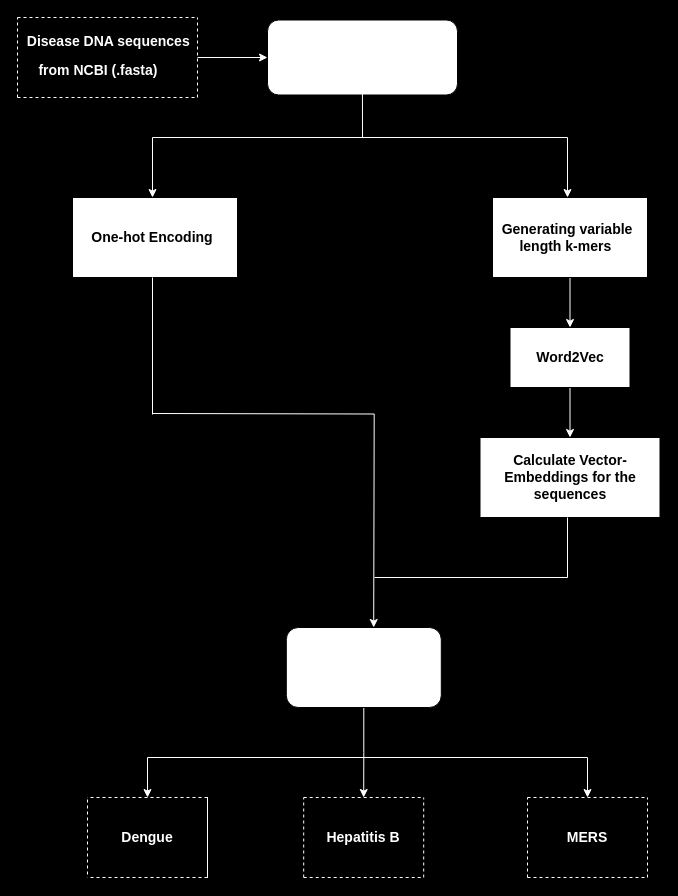
This 678x896 diagram has some shape labels left out. The box of each missing label's shape, as (x1, y1, x2, y2) in pixels:
CNN Model: (285, 626, 441, 708)
Create combined dataset: (266, 19, 458, 95)
